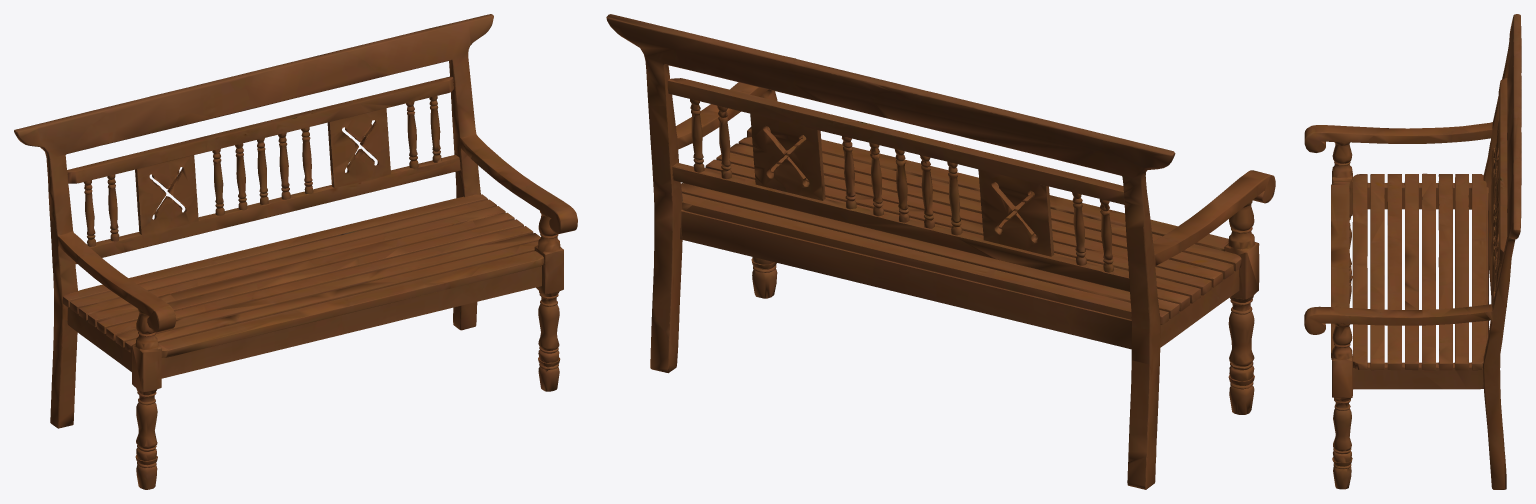
Rendered from bench.lo.glb.
The picture shows the model from 3 angles, left to right: view 1: azimuth 30°, elevation 25°; view 2: azimuth 150°, elevation 25°; view 3: azimuth 270°, elevation 25°; orthographic projection. The views are drawn at different scales.
Visible parts, largest first — view 1: model; view 2: model; view 3: model.
Part boxes in pixels (bbox=[...]): model: bbox=[14, 14, 577, 489]; model: bbox=[606, 14, 1275, 489]; model: bbox=[1304, 14, 1521, 489].
Bounding box in the file's own units: 1.89 × 1.12 × 0.8059.
1 material, 1 textured.
